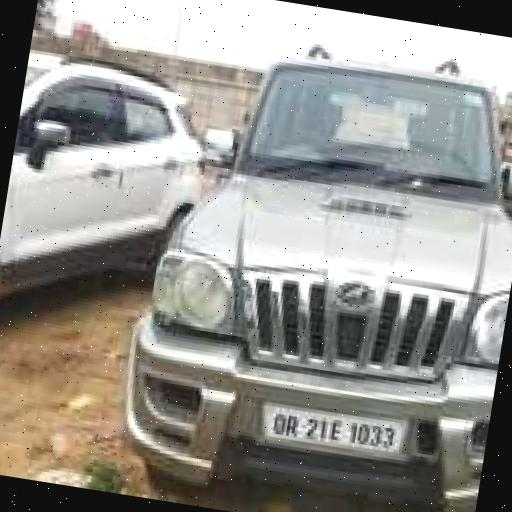license_plate`: (256, 394, 401, 453)
